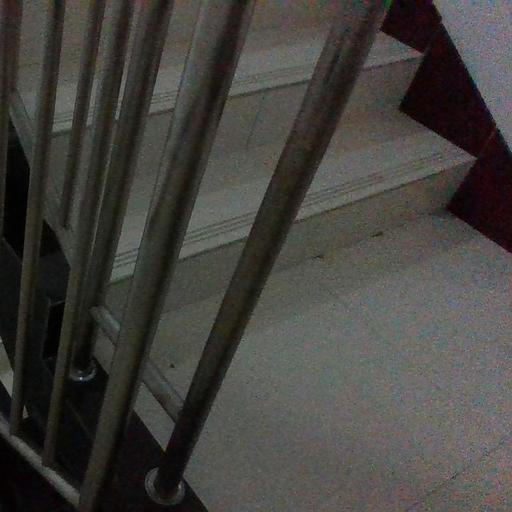Stairs: (180, 0, 340, 258), (299, 36, 468, 218), (113, 0, 198, 281), (436, 0, 512, 148), (50, 0, 86, 190), (18, 0, 44, 115)
